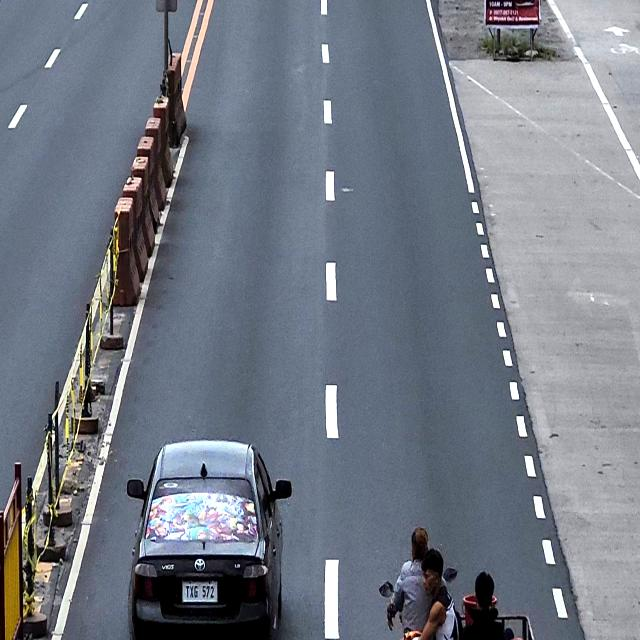Car: (126, 438, 292, 638)
License-Plate: (180, 577, 220, 604)
